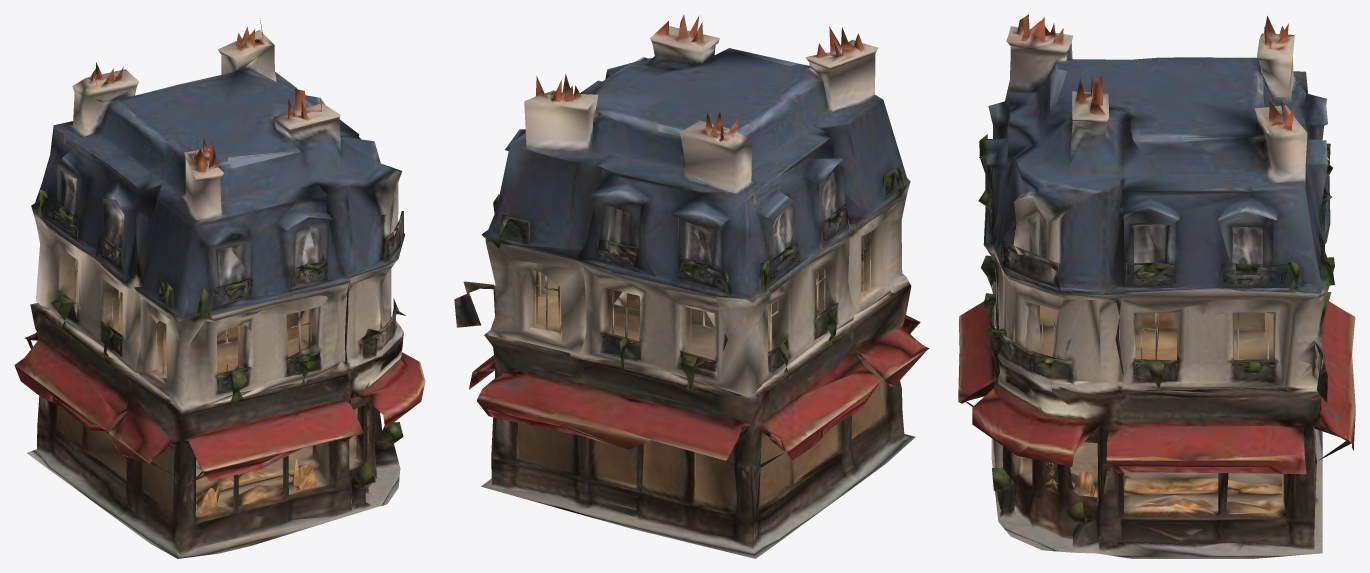
Rendered from building-03-boulangerie.glb.
The picture shows the model from 3 angles, left to right: view 1: azimuth 30°, elevation 25°; view 2: azimuth 150°, elevation 25°; view 3: azimuth 270°, elevation 25°; orthographic projection. The views are drawn at different scales.
Parts seen in each view (by area): view 1: tripo_node_a7b53e12-3359-4a5d-8619-5a080770c916; view 2: tripo_node_a7b53e12-3359-4a5d-8619-5a080770c916; view 3: tripo_node_a7b53e12-3359-4a5d-8619-5a080770c916.
Part boxes in pixels (x1,y1,x2,y2): tripo_node_a7b53e12-3359-4a5d-8619-5a080770c916: [14, 18, 425, 558]; tripo_node_a7b53e12-3359-4a5d-8619-5a080770c916: [454, 14, 929, 558]; tripo_node_a7b53e12-3359-4a5d-8619-5a080770c916: [958, 14, 1355, 558].
Bounding box in the file's own units: 0.8011 × 0.9998 × 0.8297.
1 material, 1 textured.
